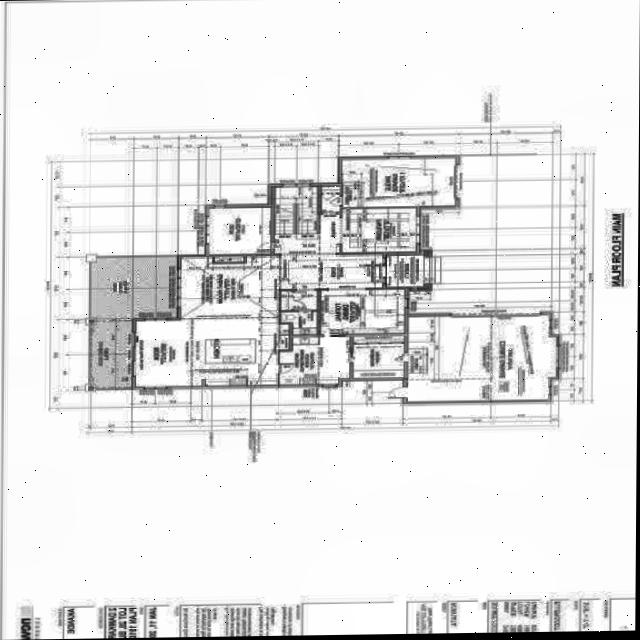room: (320, 288, 406, 334), (278, 335, 351, 384), (341, 207, 417, 252), (208, 206, 272, 254), (353, 335, 405, 377), (280, 311, 318, 334), (294, 290, 318, 309)
